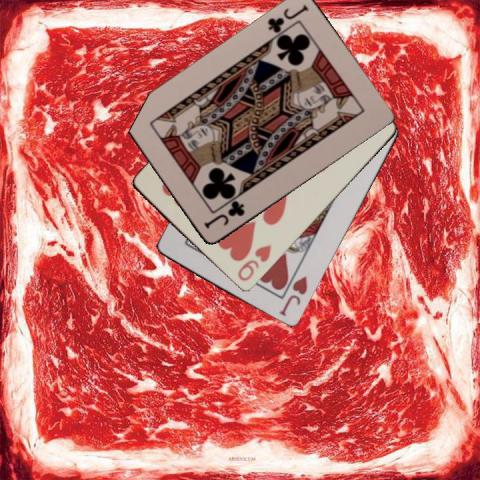9h: (235, 242, 273, 284)
Jc: (264, 2, 310, 35), (201, 198, 246, 230)
Jh: (276, 273, 309, 318)
